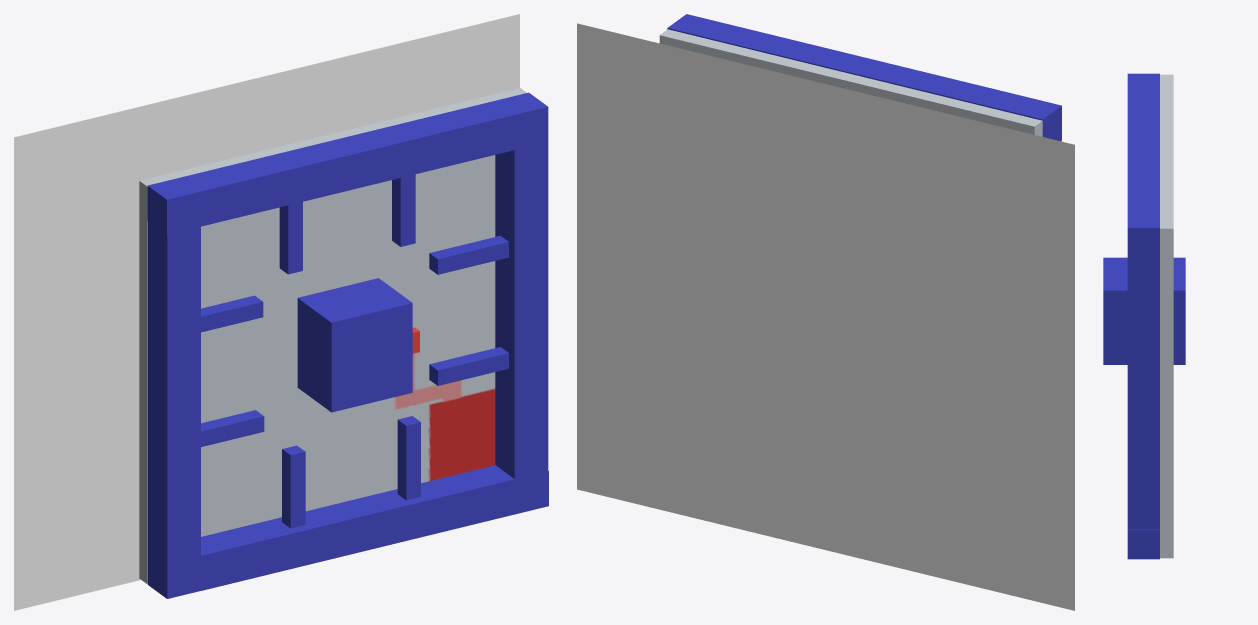
Rendered from bloodmatrix.fbx.
3 renders of one model, left to right at view 1: azimuth 30°, elevation 25°; view 2: azimuth 150°, elevation 25°; view 3: azimuth 270°, elevation 25°, orthographic. The views are drawn at different scales.
Visible parts, largest first — view 1: mesh_id1, mesh_id282, mesh_id60, mesh_id63, mesh_id85, mesh_id76, mesh_id246, mesh_id210, mesh_id215, mesh_id205, mesh_id200, mesh_id195 (+3 smaller); view 2: mesh_id1, mesh_id60, mesh_id282, mesh_id85; view 3: mesh_id85, mesh_id282, mesh_id60, mesh_id246, mesh_id76.
Part boxes in pixels (x1,y1,x2,y2): mesh_id1: (14,14,519,610); mesh_id282: (139,88,526,584); mesh_id60: (147,100,514,234); mesh_id63: (148,221,200,598); mesh_id85: (495,92,548,478); mesh_id76: (201,465,548,590); mesh_id246: (297,278,412,412); mesh_id210: (397,416,420,500); mesh_id215: (282,445,305,528); mesh_id205: (429,347,508,385); mesh_id200: (429,236,508,274); mesh_id195: (392,174,415,246); mesh_id1: (577,23,1074,610); mesh_id60: (700,22,1061,141); mesh_id282: (659,29,1042,136); mesh_id85: (667,14,718,36); mesh_id85: (1127,214,1159,529); mesh_id282: (1160,74,1173,558); mesh_id60: (1127,73,1159,214); mesh_id246: (1103,257,1185,364); mesh_id76: (1127,529,1159,559).
Size of the model in its own units: 1632 by 1460 by 472.
16 materials, 16 textured.
